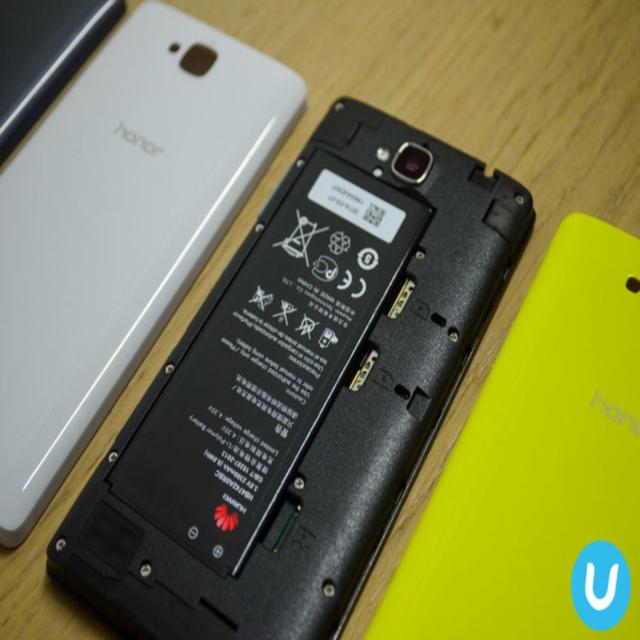Mobile-phone: (46, 92, 539, 639), (362, 211, 640, 639)
